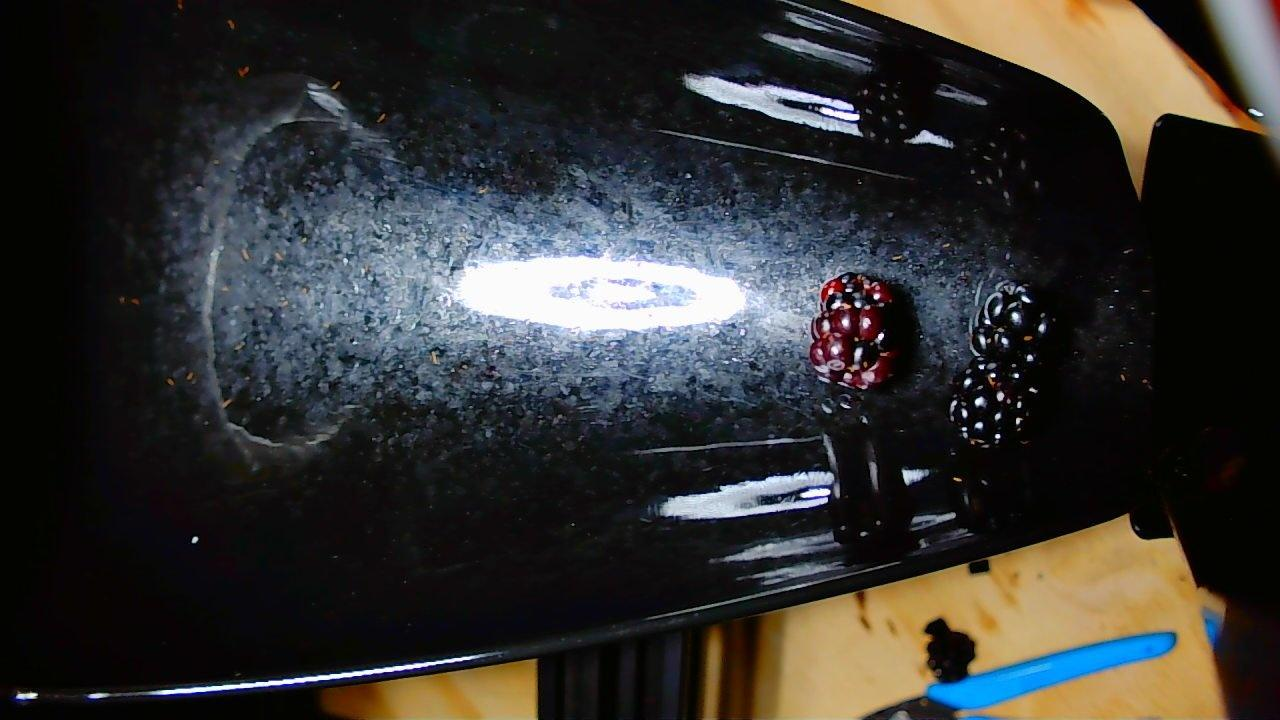berry: (809, 273, 897, 389), (949, 357, 1038, 446), (970, 281, 1053, 364)
